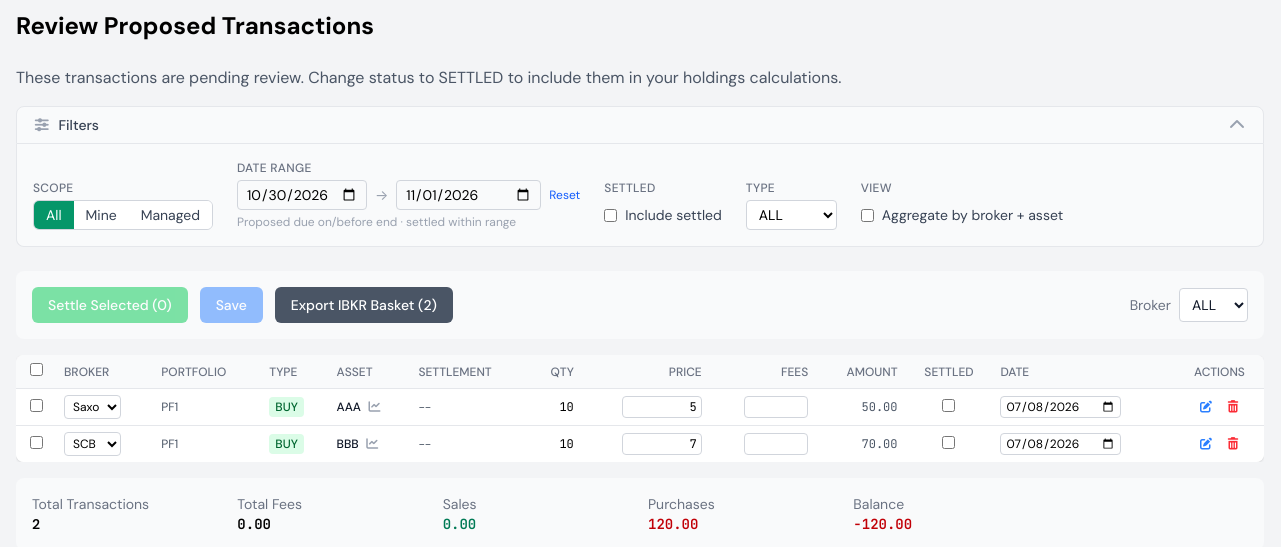
Scenario: Proposed Transactions broker filter › keeps the broker filter visible when the filter panel is collapsed
Expected: the text "AAA" is shown, [337,399,361,415]
Click the button "Filters" at {"x": 79, "y": 125}, box [16,106,1264,144]
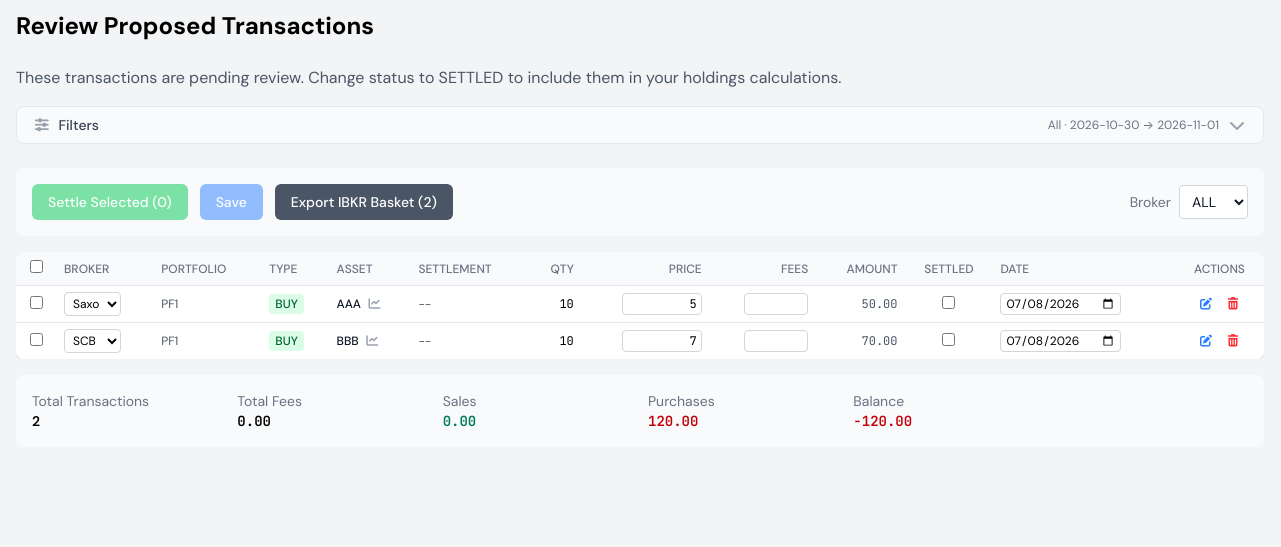
Expected: the dropdown named "Broker filter" is shown, [1179,185,1248,219]
Result: the text "Scope" is gone
